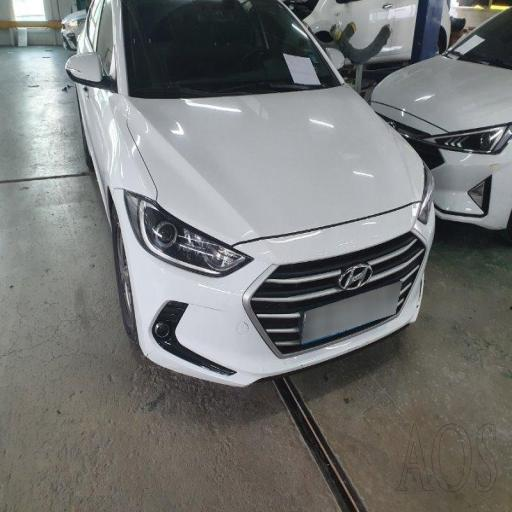broken: (104, 90, 256, 401)
